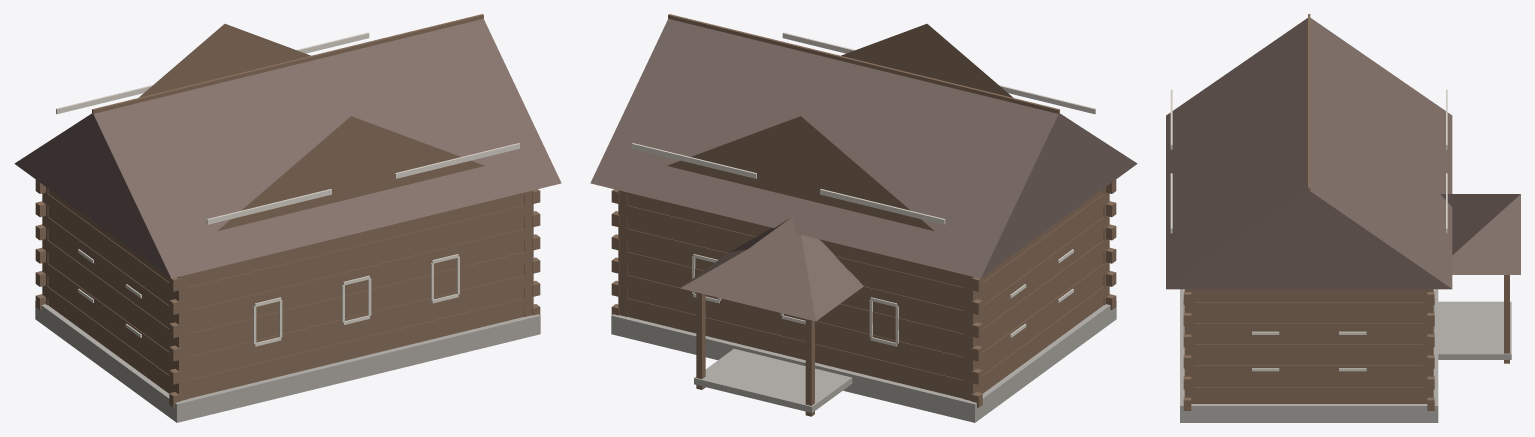
Rendered from cp_swedish_cottage.glb.
The picture shows the model from 3 angles, left to right: view 1: azimuth 30°, elevation 25°; view 2: azimuth 150°, elevation 25°; view 3: azimuth 270°, elevation 25°; orthographic projection. The views are drawn at different scales.
Visible parts, largest first — view 1: SwedishCottage; view 2: SwedishCottage; view 3: SwedishCottage.
Boxes of the visible parts, x1=… form: SwedishCottage: x1=14, y1=14, x2=561, y2=422; SwedishCottage: x1=590, y1=14, x2=1137, y2=422; SwedishCottage: x1=1166, y1=14, x2=1520, y2=422.
Size of the model in its own units: 13.2 by 8.55 by 11.4.
